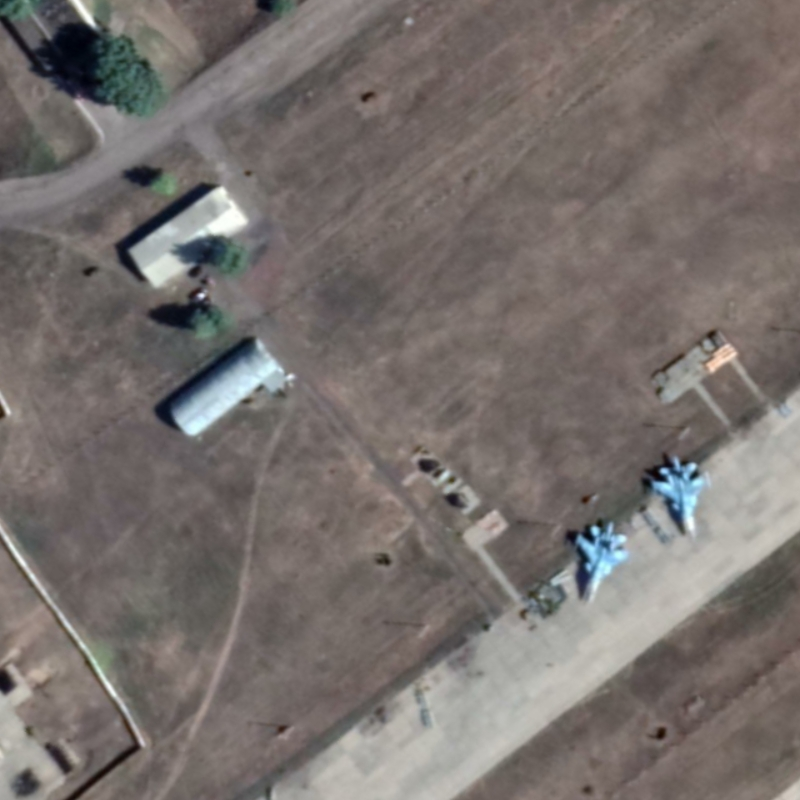A19: (644, 453, 715, 544), (568, 517, 635, 608)
